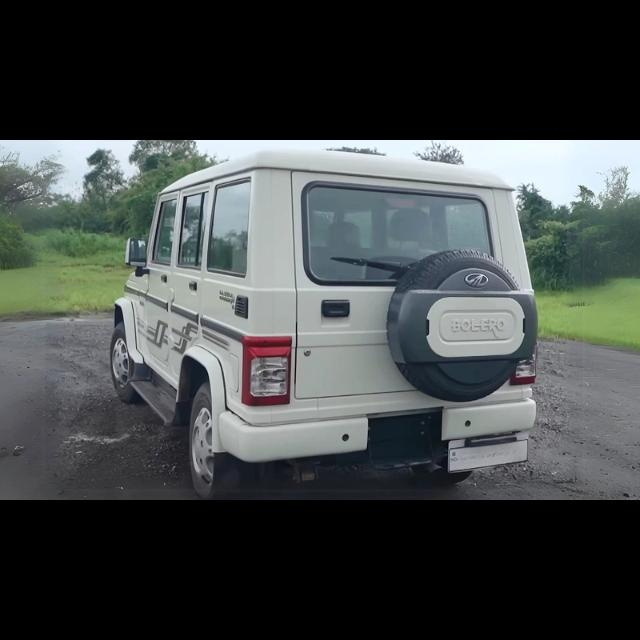vehicles: (103, 152, 544, 492)
